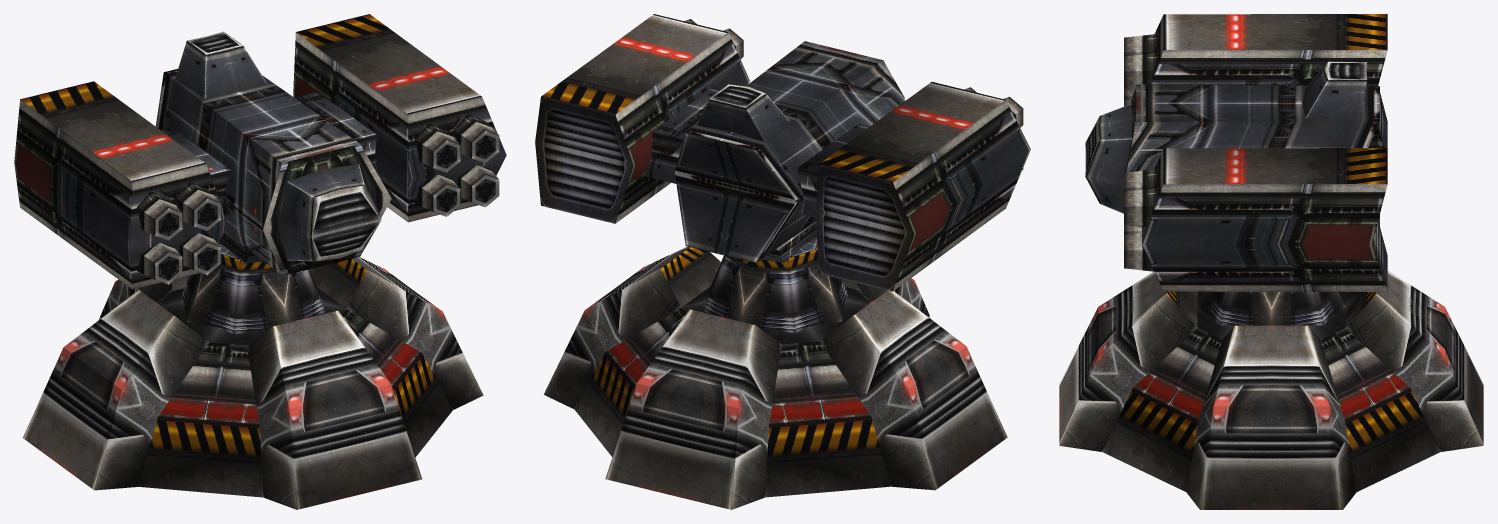
Rendered from r-launcher-03.DAE.
The picture shows the model from 3 angles, left to right: view 1: azimuth 30°, elevation 25°; view 2: azimuth 150°, elevation 25°; view 3: azimuth 270°, elevation 25°; orthographic projection.
Visible parts, largest first — view 1: r-launcher-03; view 2: r-launcher-03; view 3: r-launcher-03.
Boxes of the visible parts, left/top/right/bottom form: r-launcher-03: left=14, top=14, right=506, bottom=509; r-launcher-03: left=535, top=14, right=1030, bottom=509; r-launcher-03: left=1059, top=14, right=1483, bottom=509.
Bounding box in the file's own units: 4.48 × 4.24 × 3.82.
